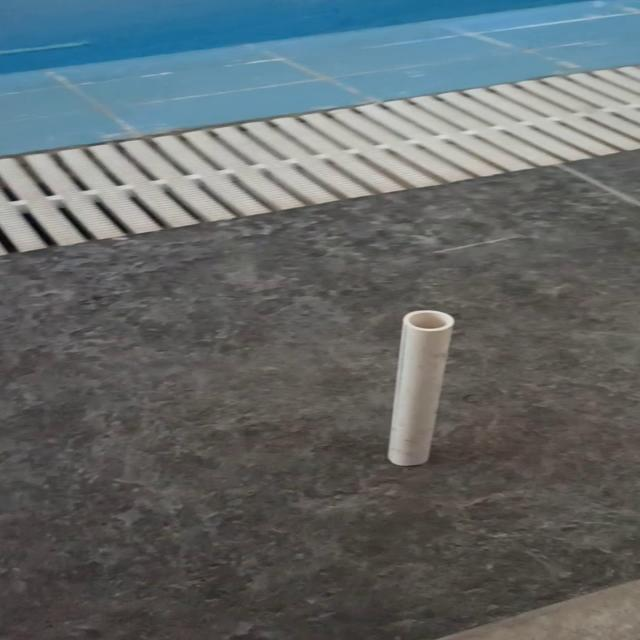Cube: (384, 309, 454, 466)
